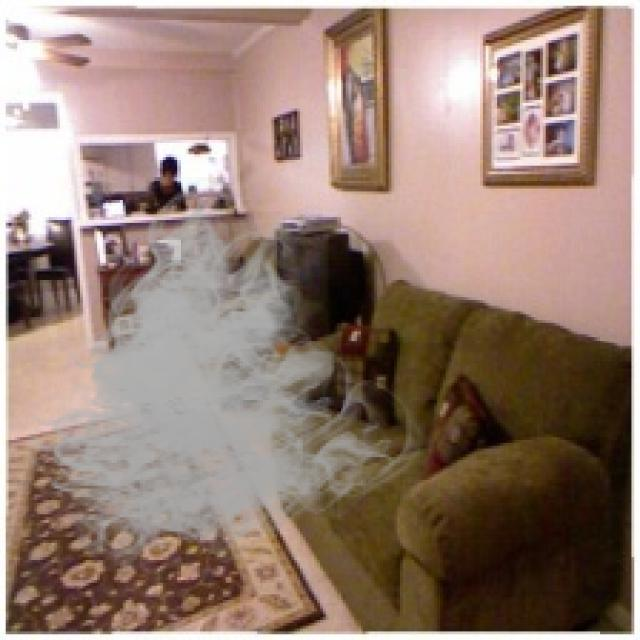smoke: (14, 177, 429, 583)
